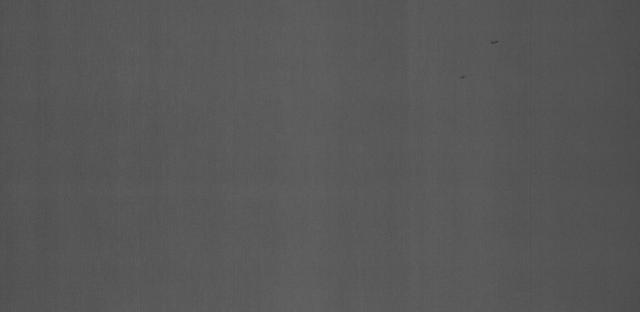inclusion: (453, 67, 476, 85), (484, 36, 503, 46)
